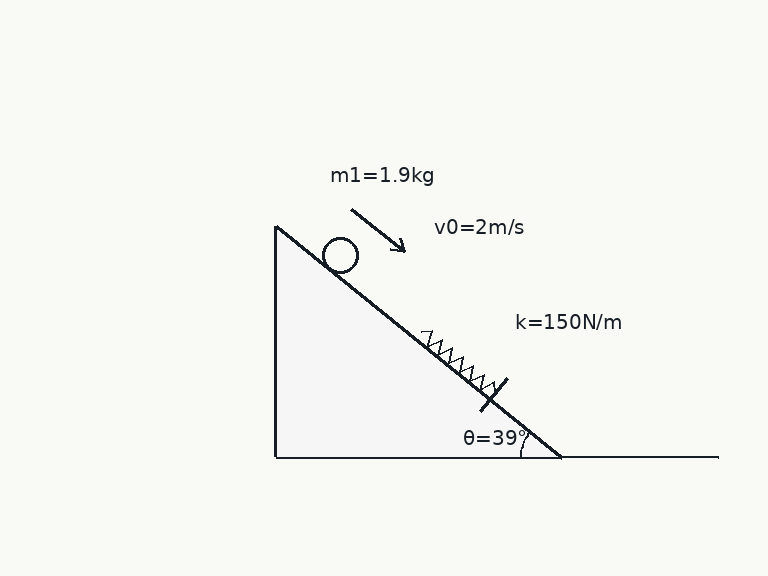ball: (320, 235, 360, 275)
ramp: (274, 224, 563, 459)
spring: (419, 329, 497, 394)
